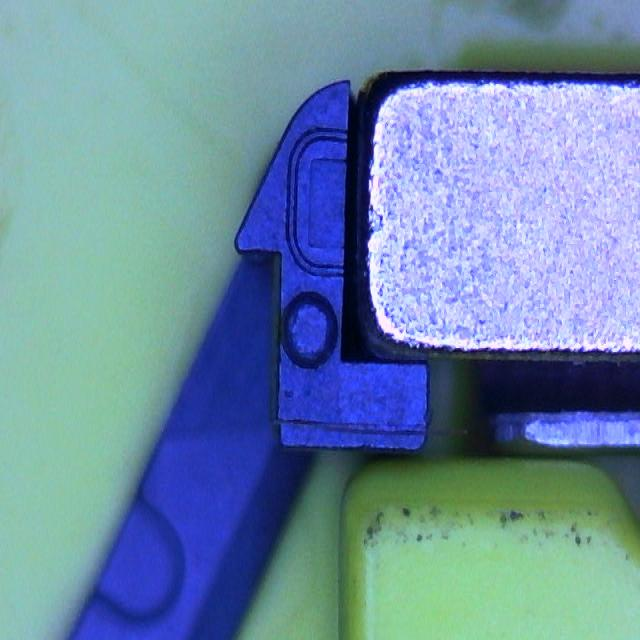noResin: (286, 125, 351, 279)
